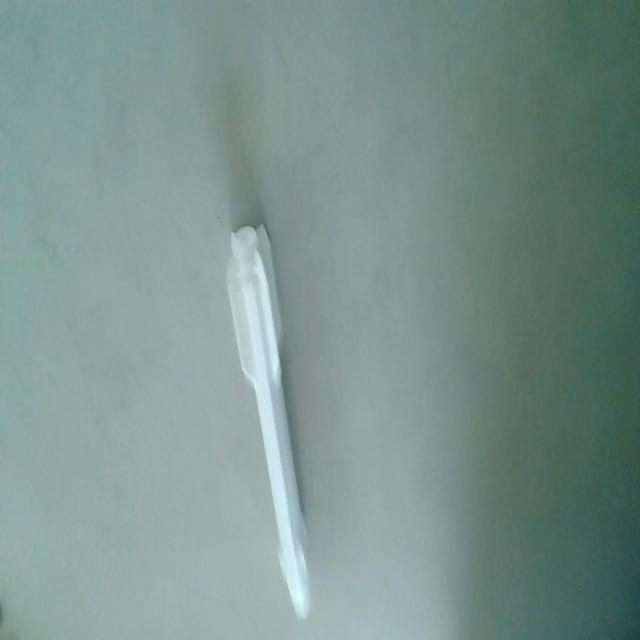Rocket: (227, 217, 313, 625)
